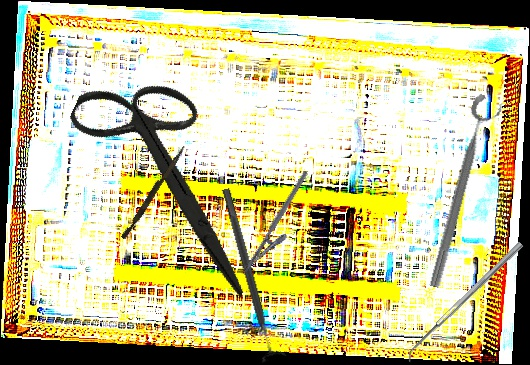Fixation Ring: (424, 92, 506, 293), (212, 185, 289, 363)
Iris Scissors: (30, 53, 309, 300)
Needle Holder: (241, 170, 322, 283)
Pusher: (120, 142, 187, 242)
Spatula Surgical: (402, 241, 528, 364)
